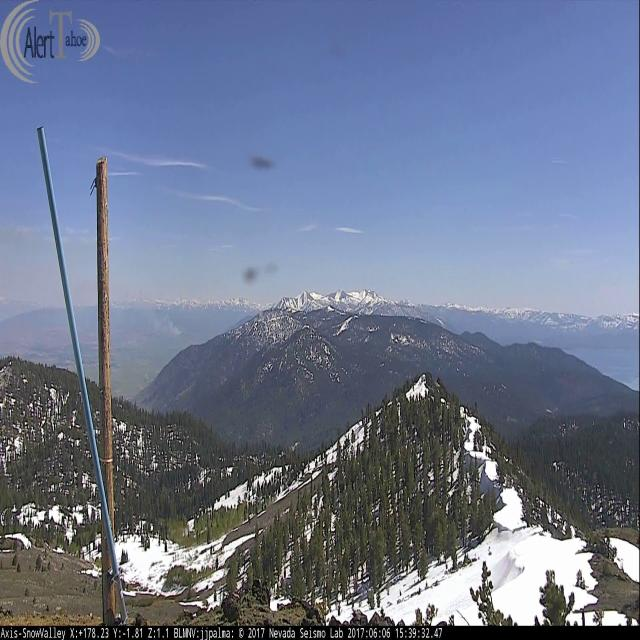smoke: (128, 290, 180, 334)
